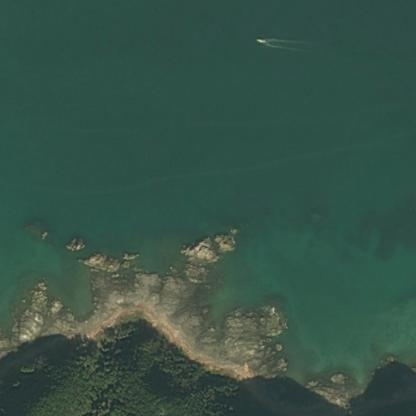ship: (255, 37, 264, 42)
